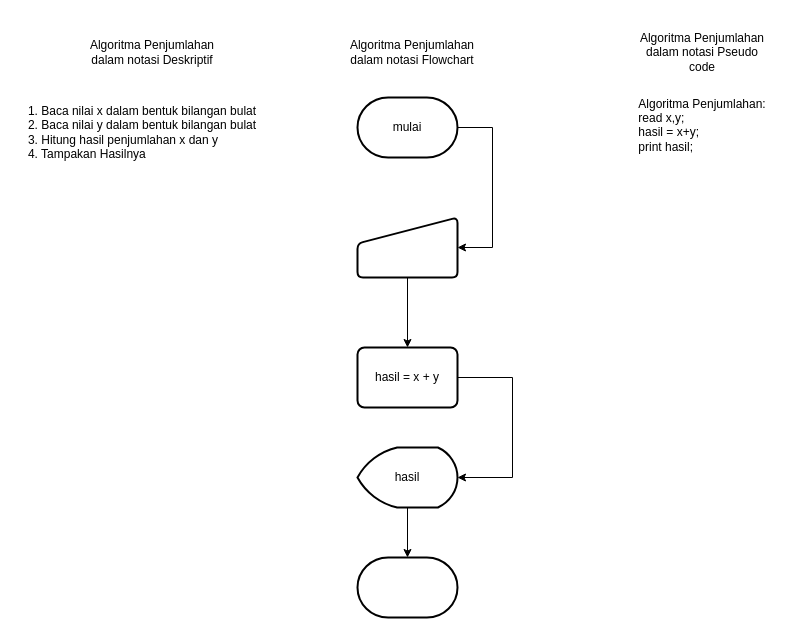
Some shapes in this 794 by 635 pixel diagram are drawn without their labels. The shapes that lost their labels are listed below. From the top down, each one's box as (x1, y1, x2, y2) in pixels, then its label:
(356, 216, 458, 278): x,y
(356, 556, 458, 618): selesai
